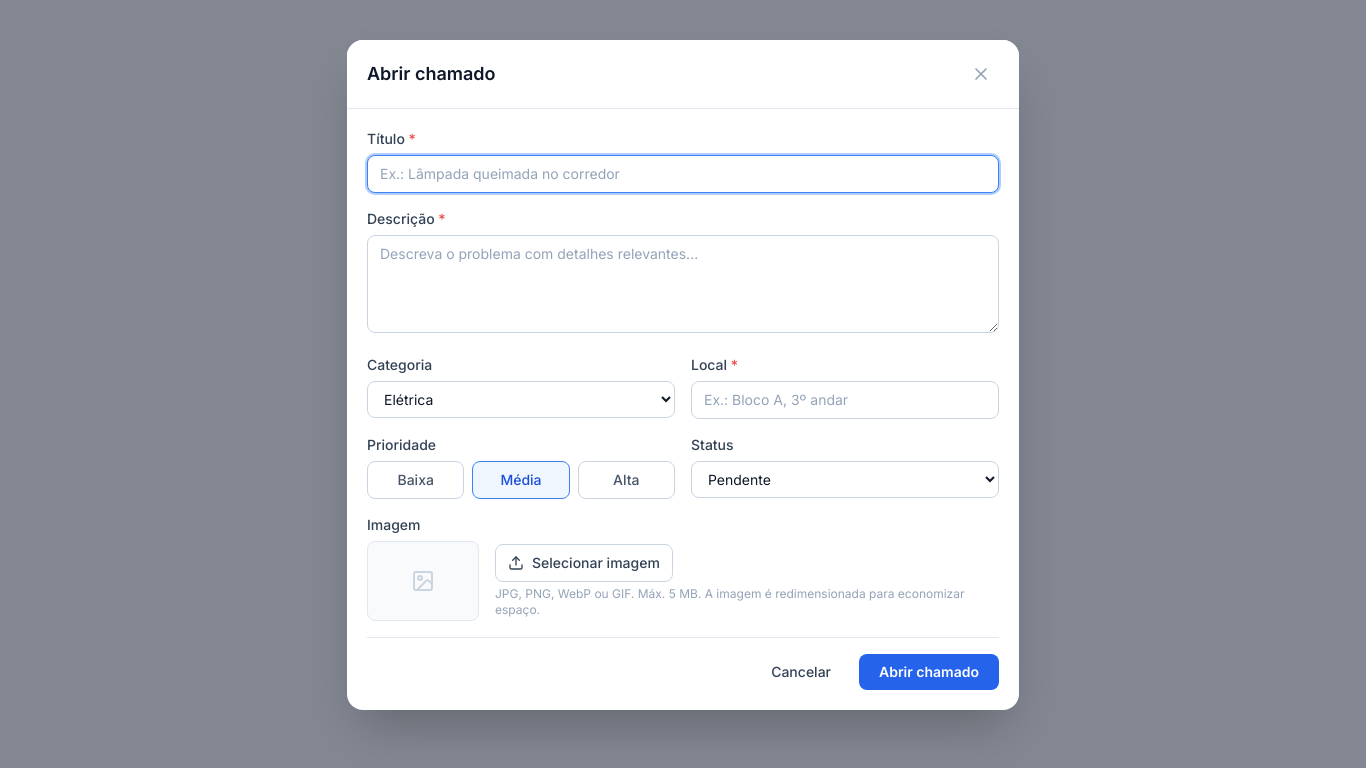
Test: TicketForm › shows field errors and prevents submitting invalid values
The width and height of the screenshot is (1366, 768).
Click the button "Abrir chamado" at {"x": 929, "y": 672}, box [859, 654, 999, 690]
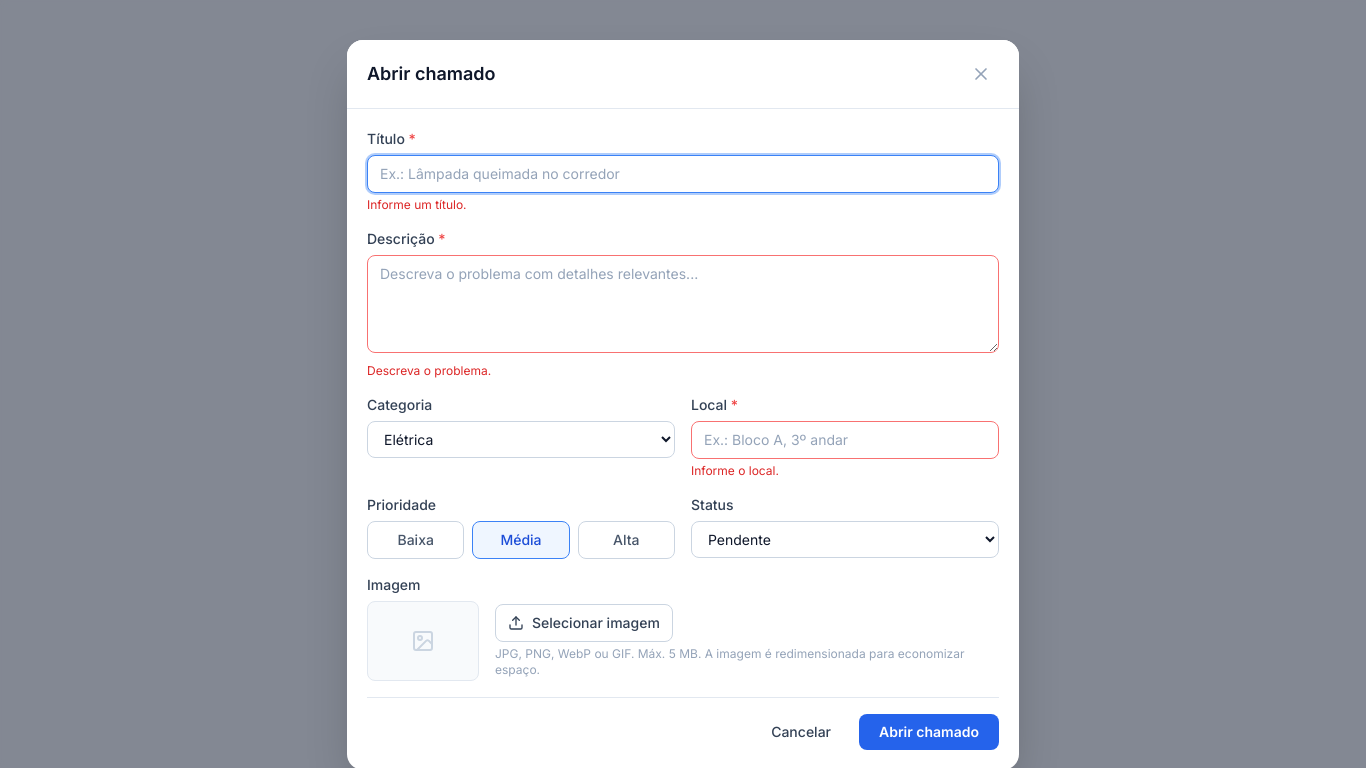
Now the text "Informe um título." is shown, box [367, 197, 467, 212]
Now the text "Descreva o problema." is shown, box [367, 363, 491, 378]
Now the text "Informe o local." is shown, box [691, 463, 779, 478]
